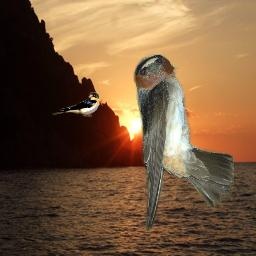Swallow: (133, 54, 234, 234), (52, 92, 100, 117)
